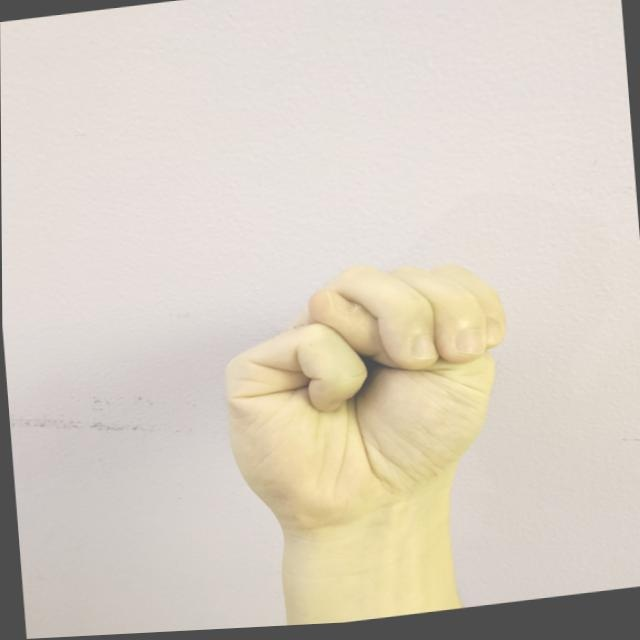M: (200, 243, 533, 557)
